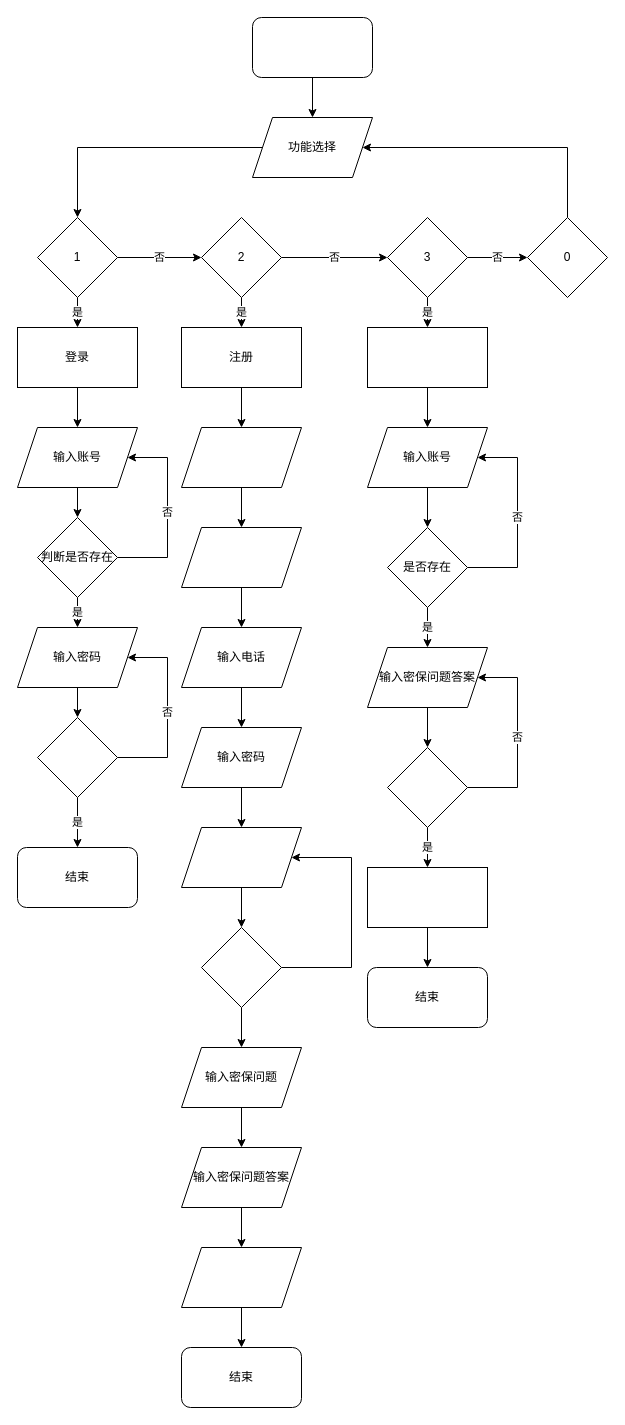
Some shapes in this 625 by 1425 pixel diagram are drawn without their labels. The shapes that lost their labels are listed below. From the top down, each one's centre as x and y in pixels, then its label:
At (x=312, y=47): "开始".
At (x=427, y=357): "找回密码".
At (x=241, y=457): "输入学号".
At (x=241, y=557): "输入姓名".
At (x=77, y=757): "密码是否正确".
At (x=427, y=787): "是否正确".
At (x=241, y=857): "再次输入密码".
At (x=427, y=897): "设置新密码".
At (x=241, y=967): "是否相等".
At (x=241, y=1277): "输出账号".
